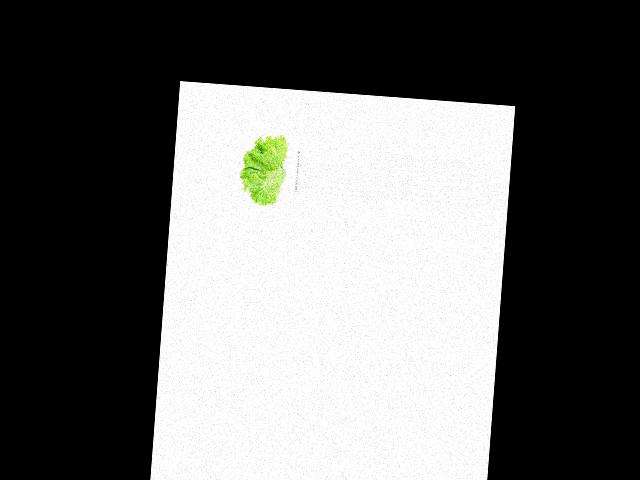lettuce: (236, 131, 298, 209)
